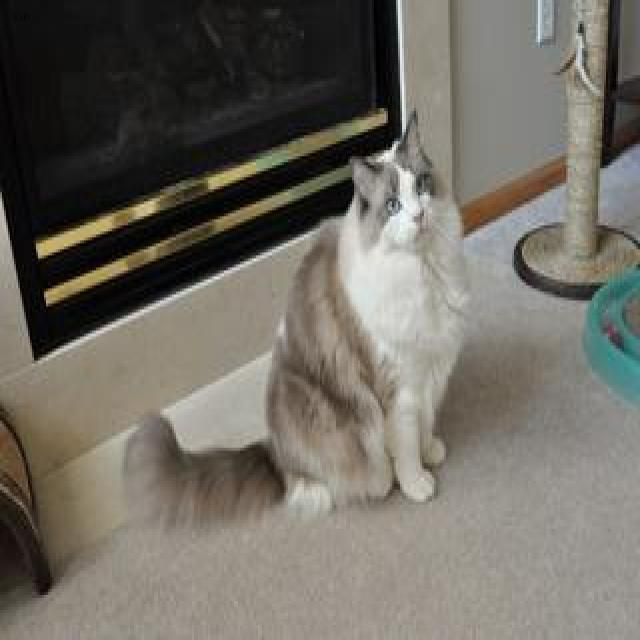Ragdoll: (348, 109, 436, 250)
